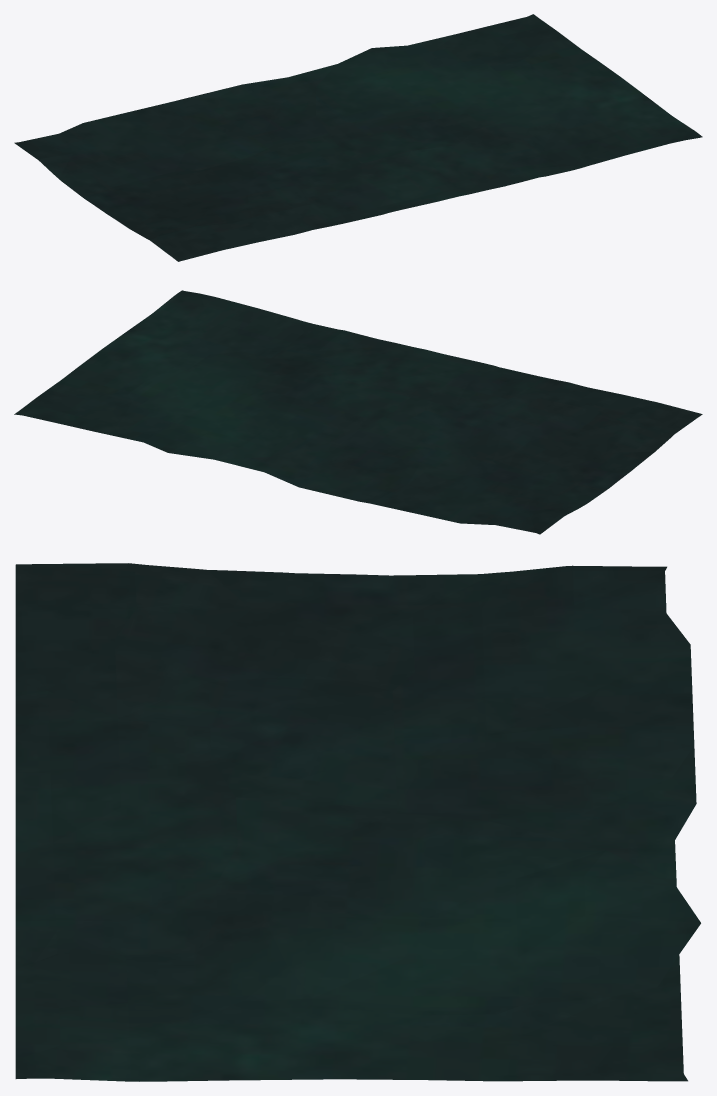
The picture shows the model from 3 angles, top to bottom: view 1: azimuth 30°, elevation 25°; view 2: azimuth 150°, elevation 25°; view 3: azimuth 270°, elevation 25°; orthographic projection. The views are drawn at different scales.
Bounding box in the file's own units: 52.22 × 0.8319 × 29.78.
1 material, 1 textured.
